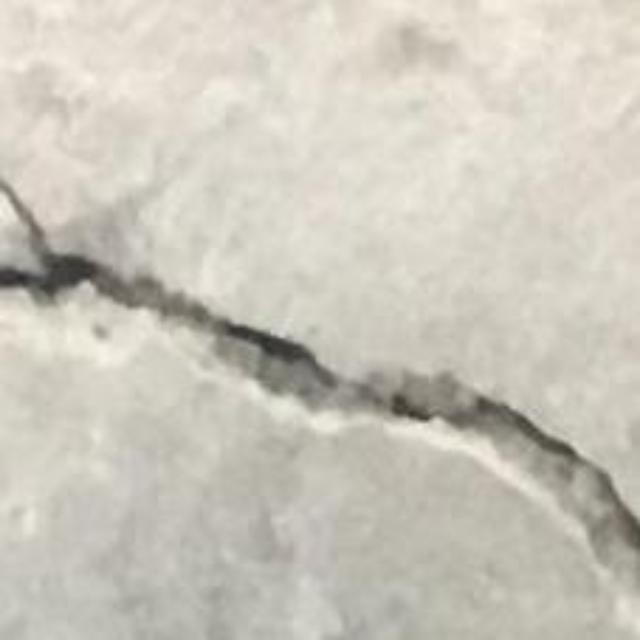crack: (0, 181, 639, 634)
